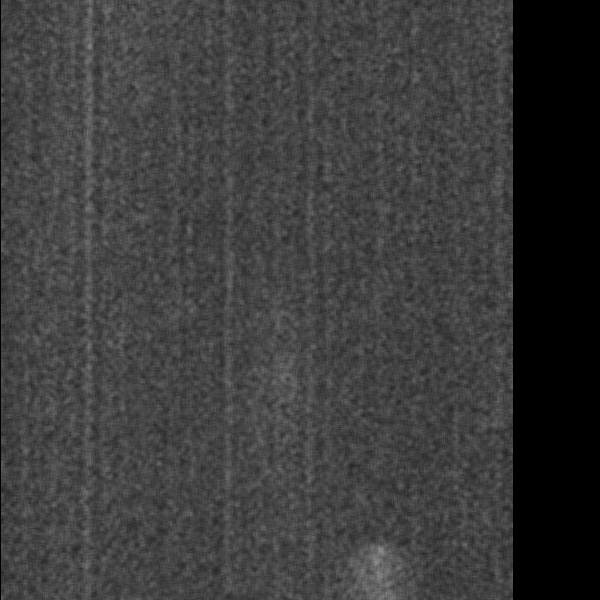spark: (350, 540, 375, 598)
